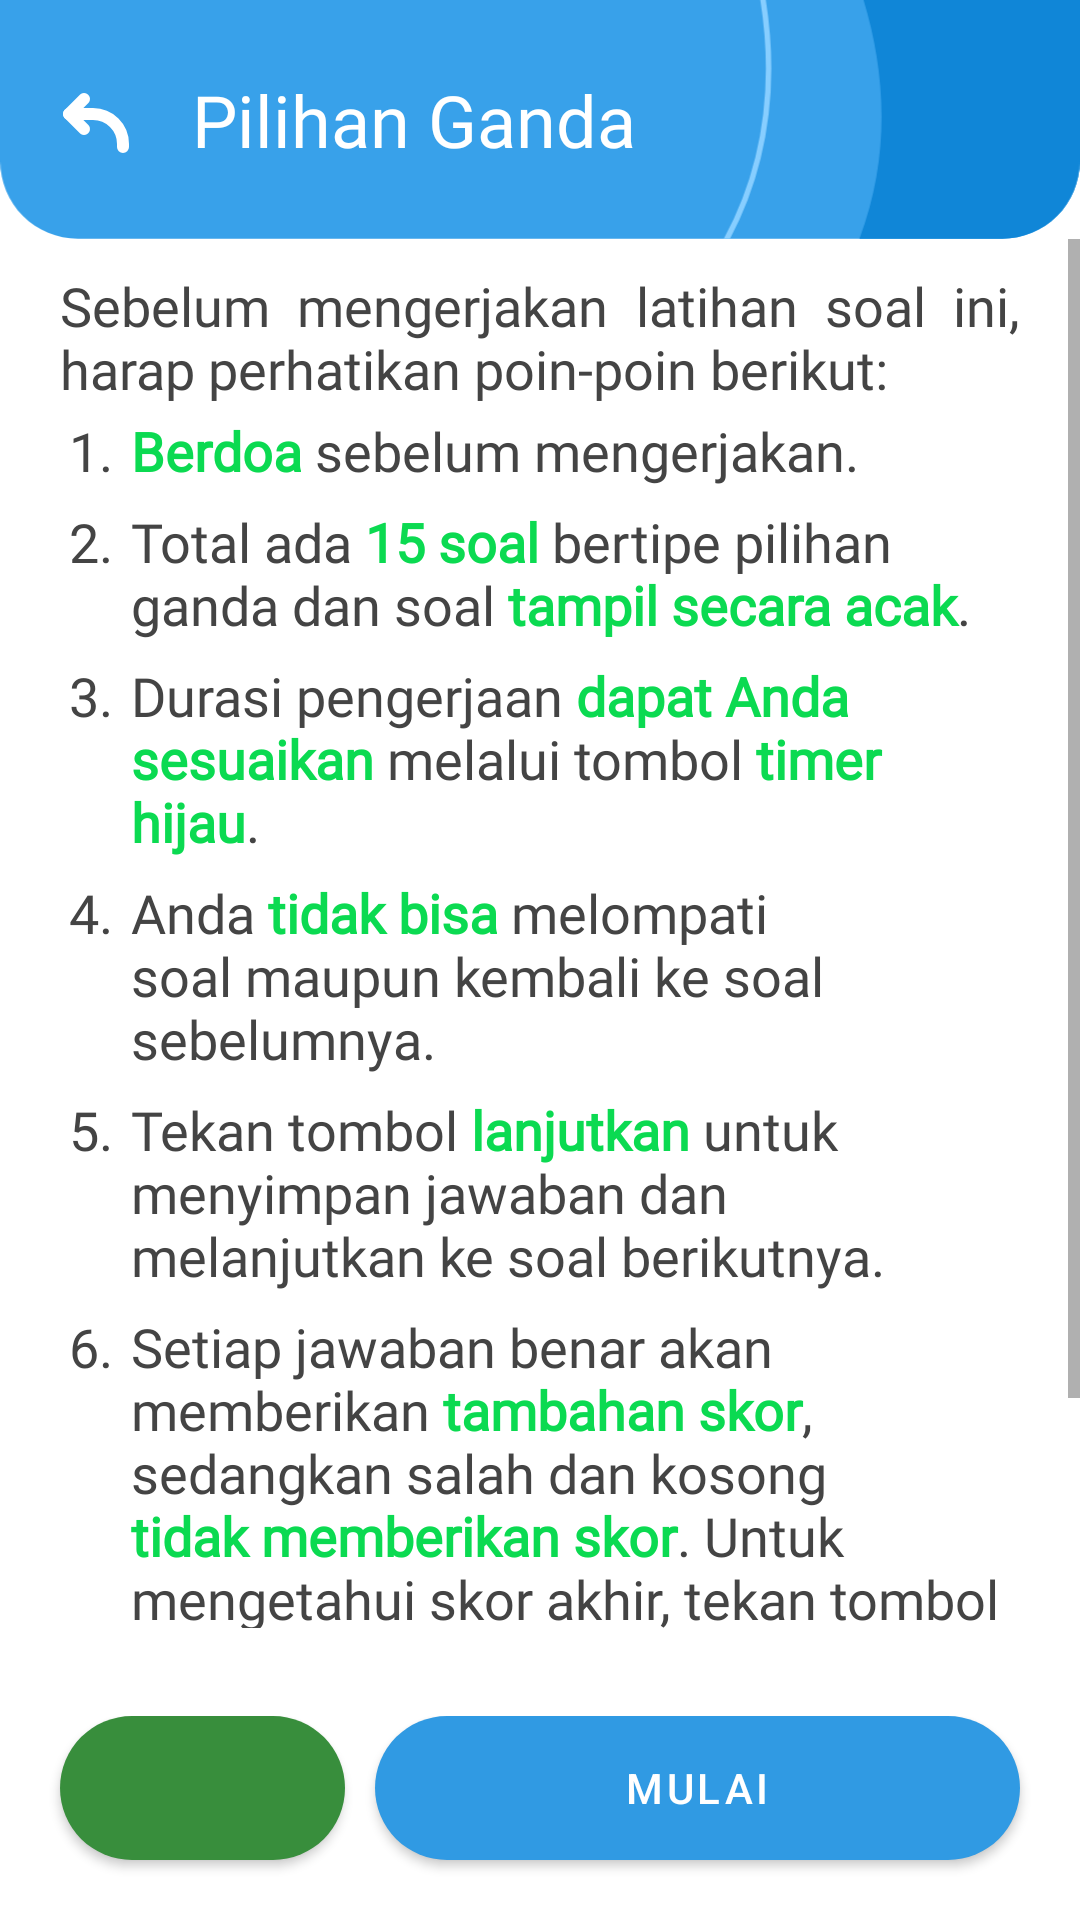

Where to tap for icons on this 1080x1920 app screen, as [x,y]:
arrow back: [96,123]
